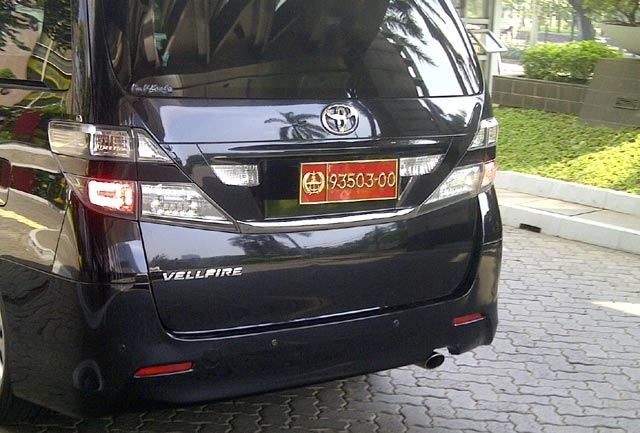plate: (300, 163, 399, 198)
